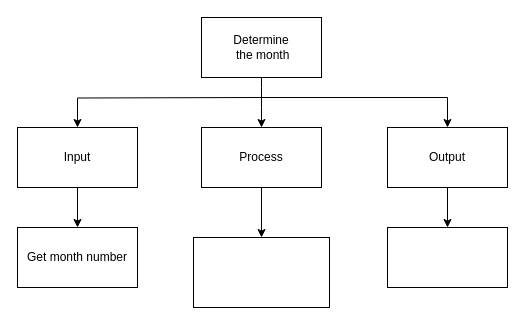
Image size: 525x325. Some labels were removed from this diagram. The shapes that lost their labels are listed below. From the top down, each one's centre as x and y in pixels, then its label:
(x=261, y=272): Check if month number matches its assigned month
(x=447, y=257): Show Month
